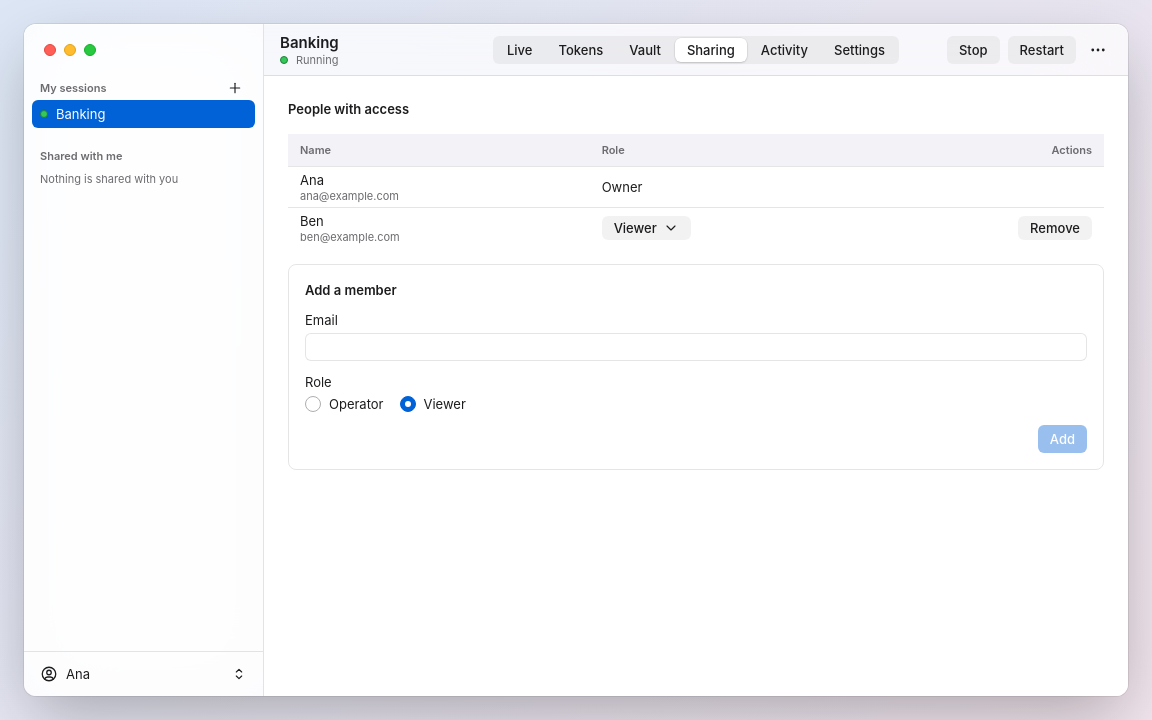
Test case: Sharing view › shows a validation error of the email at the field, without an alert
This screenshot has width=1152, height=720.
Type "nope" into the field labelled "Email" at (696, 346), box [305,332,1087,360]
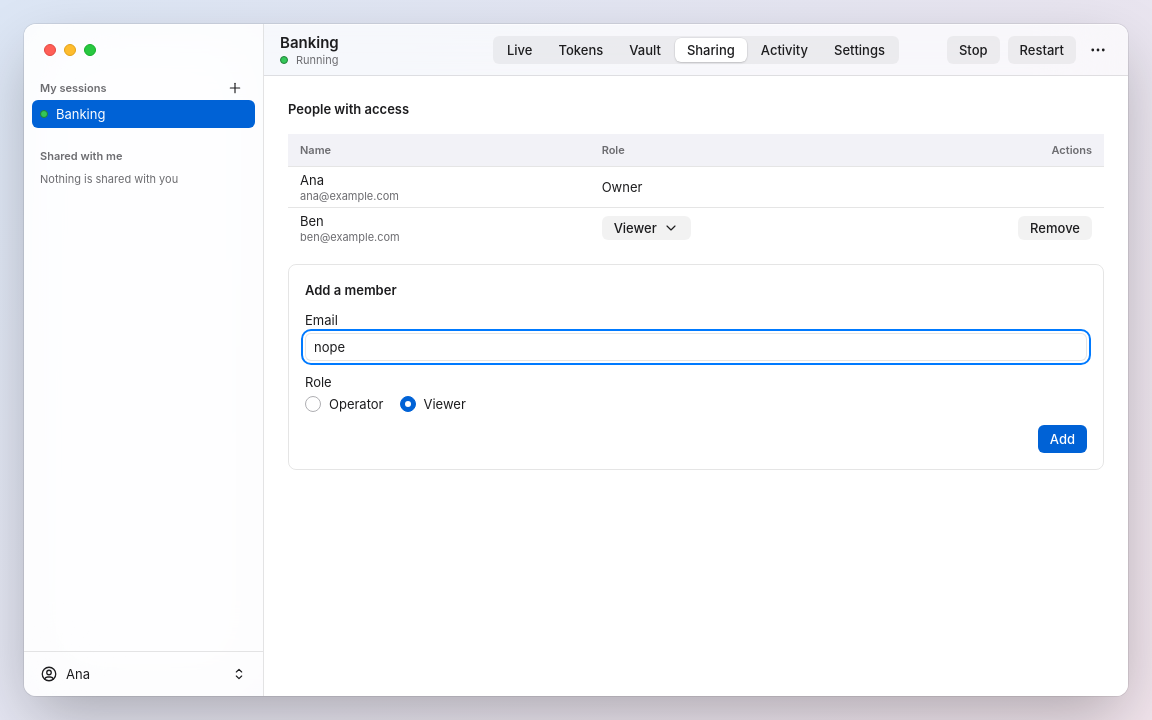
Click the button "Add" at (1062, 438), box [1038,424,1087,452]
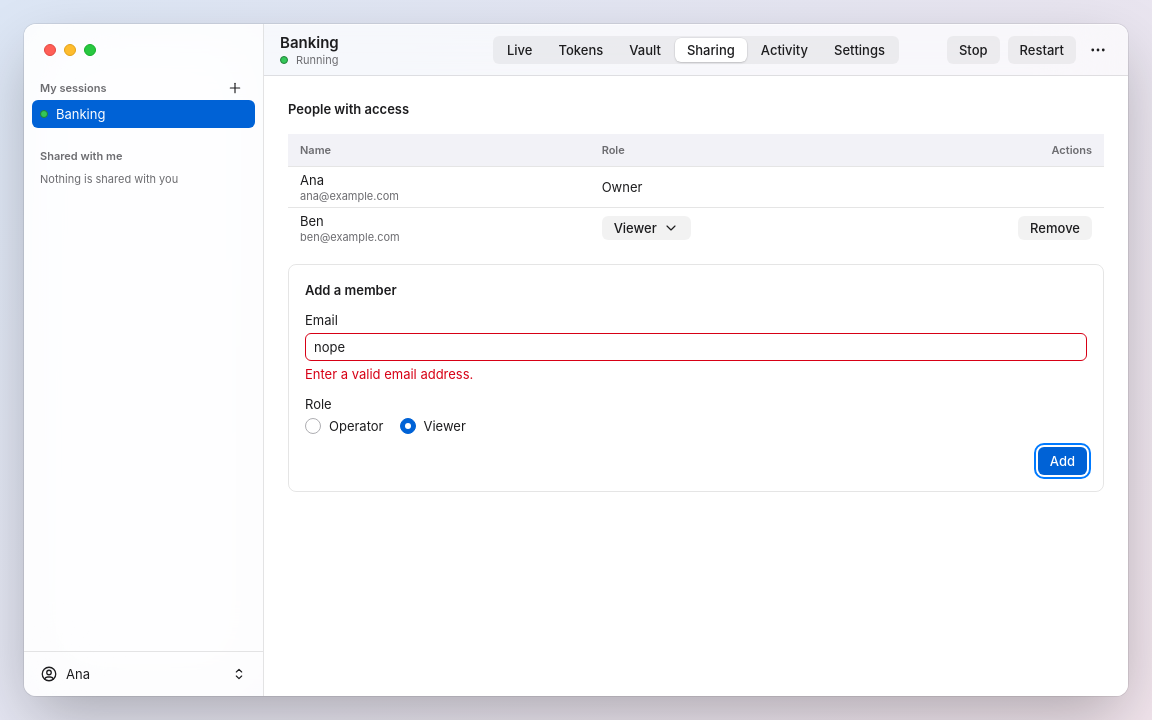
Expected: the text "Enter a valid email address." is shown, [305,366,473,382]
